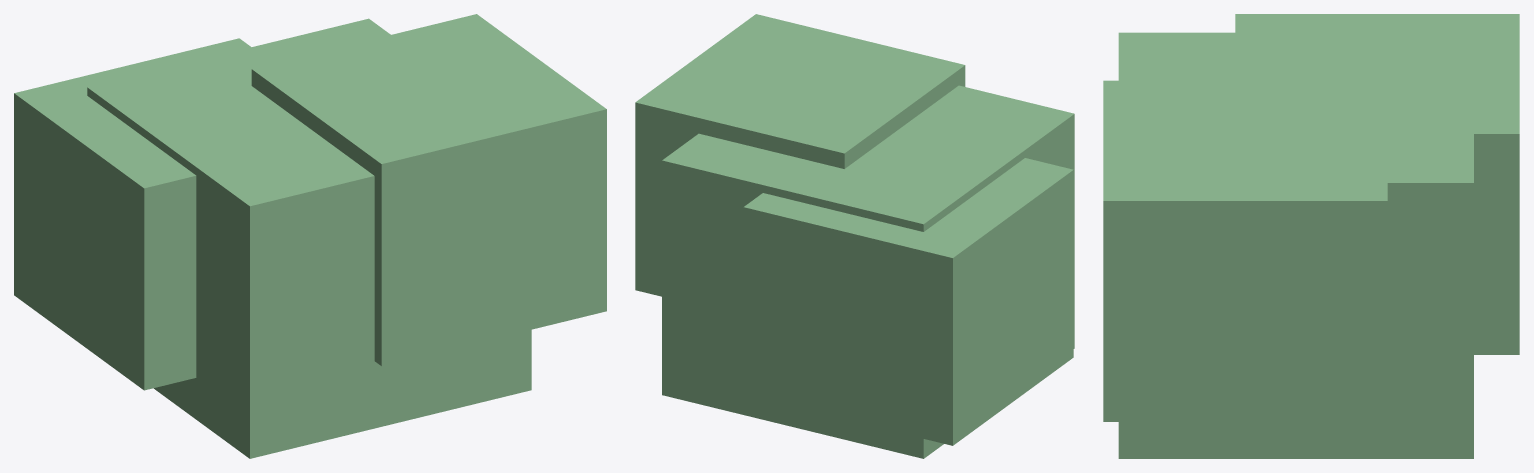
The model's file is foliage-bush.gltf.
The picture shows the model from 3 angles, left to right: view 1: azimuth 30°, elevation 25°; view 2: azimuth 150°, elevation 25°; view 3: azimuth 270°, elevation 25°; orthographic projection. The views are drawn at different scales.
Visible parts, largest first — view 1: Clump1, Clump2, Clump3; view 2: Clump3, Clump1, Clump2; view 3: Clump2, Clump1, Clump3.
Part boxes in pixels (box(x1,y1,x2,y2)): Clump1: box(87, 18, 531, 458); Clump2: box(251, 14, 606, 366); Clump3: box(14, 38, 251, 390); Clump3: box(743, 158, 1073, 445); Clump1: box(662, 85, 1074, 458); Clump2: box(635, 14, 965, 296); Clump2: box(1103, 80, 1387, 421); Clump1: box(1118, 32, 1473, 458); Clump3: box(1235, 14, 1519, 354).
Size of the model in its own units: 0.5 by 0.32 by 0.41.
